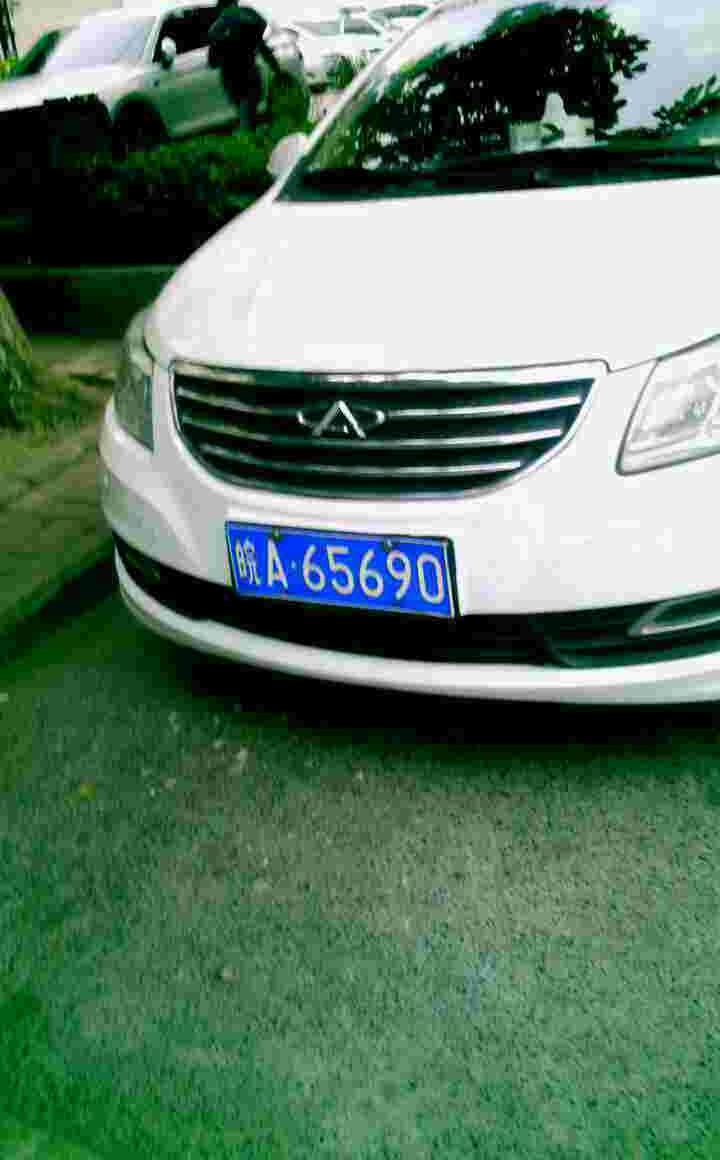license_plate: (232, 523, 454, 618)
